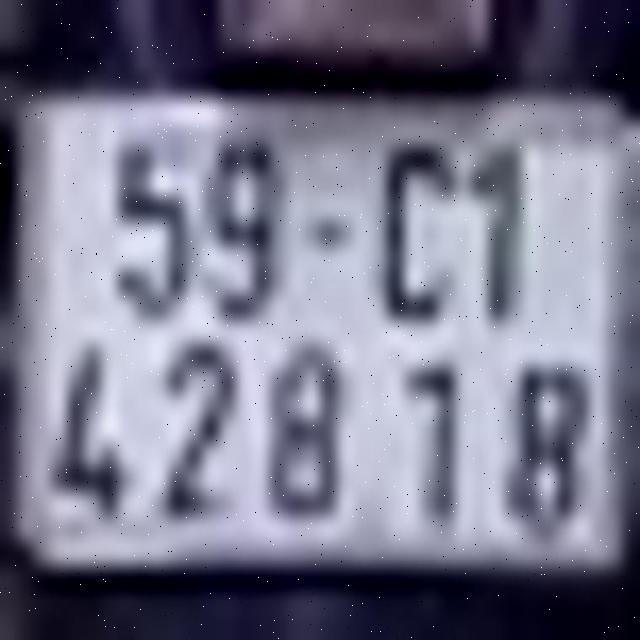1: (470, 139, 528, 327), (404, 357, 462, 528)
2: (158, 336, 241, 521)
4: (49, 338, 131, 526)
5: (112, 135, 193, 322)
8: (508, 359, 590, 543), (265, 337, 343, 522)
9: (204, 137, 278, 324)
C: (378, 140, 458, 324)
